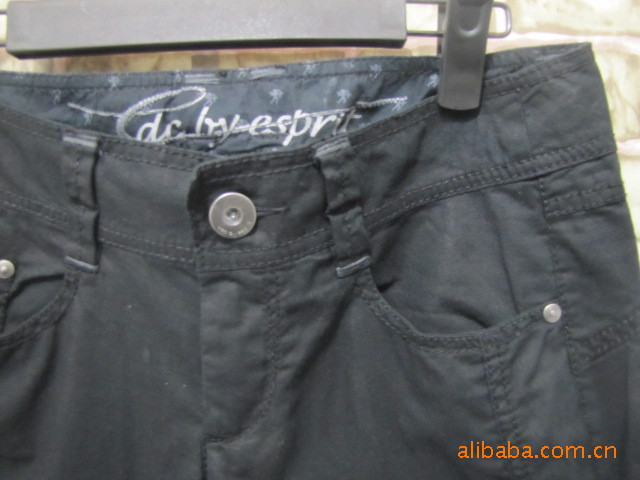flexible: (3, 72, 637, 480)
